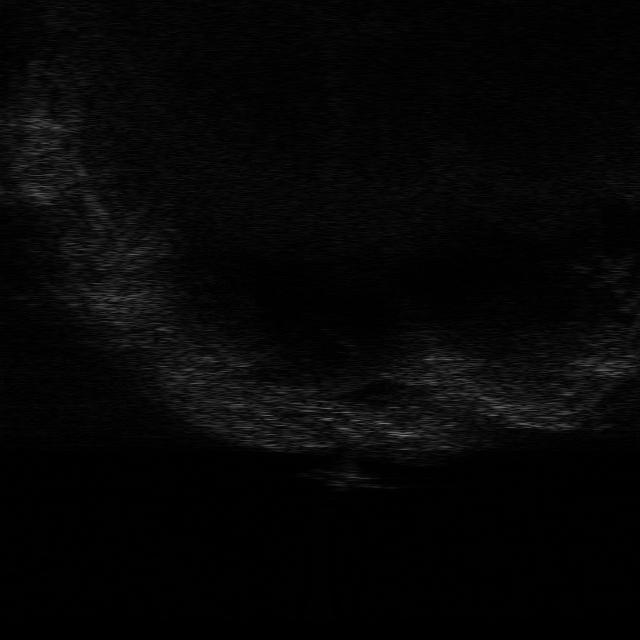plane: (302, 462, 396, 490)
